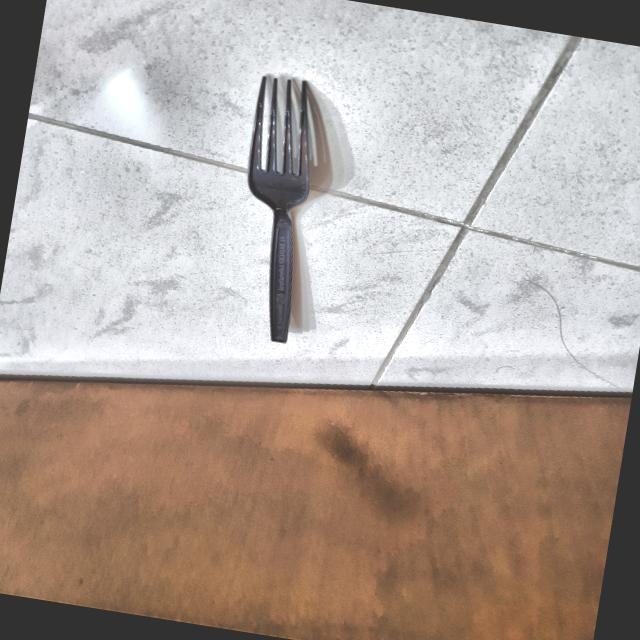plastic utensil: (212, 64, 342, 350)
